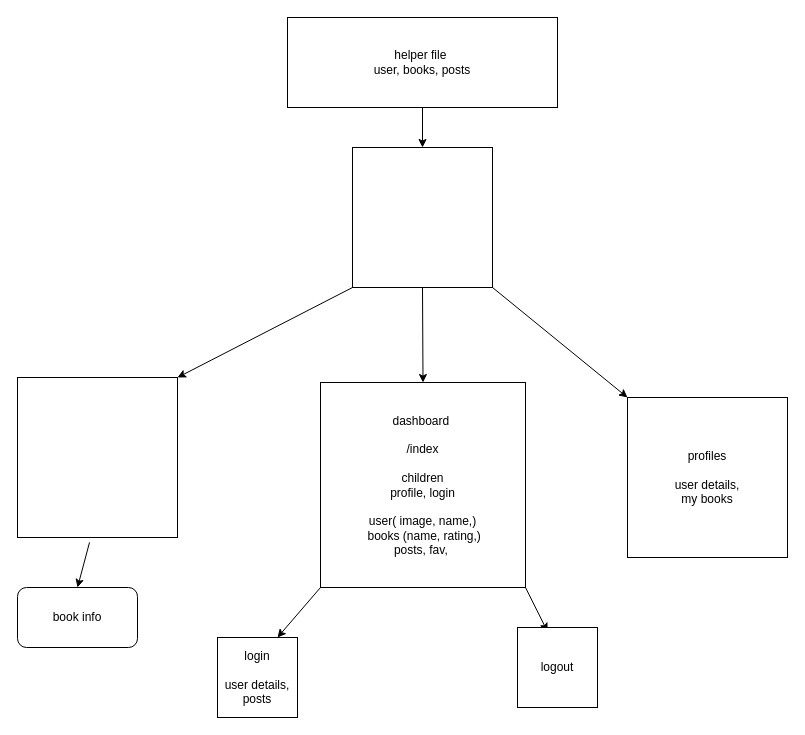
Image size: 805x735. Some labels were removed from this diagram. Here are the shapes that lost their labels. From the top down, the centre of each, then its label:
At (422,217): "App header, footer user( image, name,) books (name, rating,) posts, fav,".
At (97,457): "search book info".
